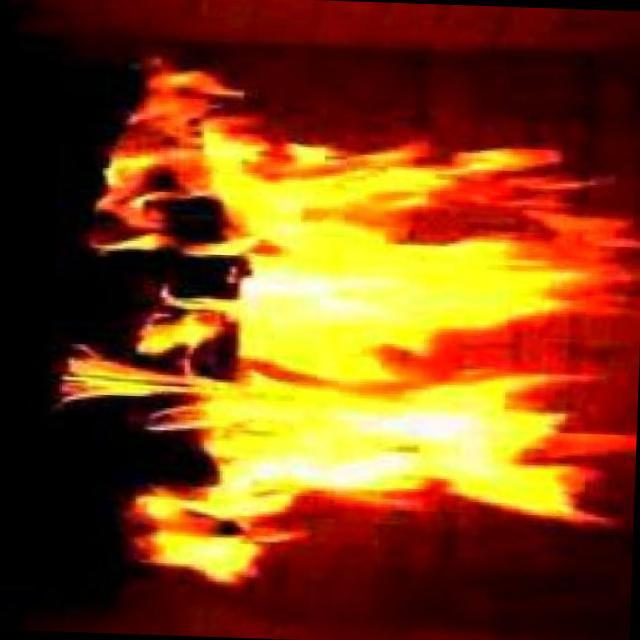Fire: (150, 128, 617, 560)
